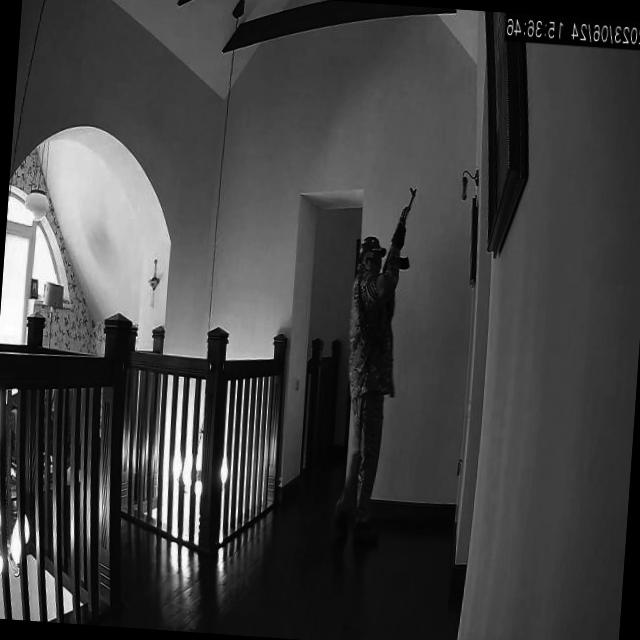gun: (380, 185, 418, 294)
person with a gun: (330, 230, 392, 548)
